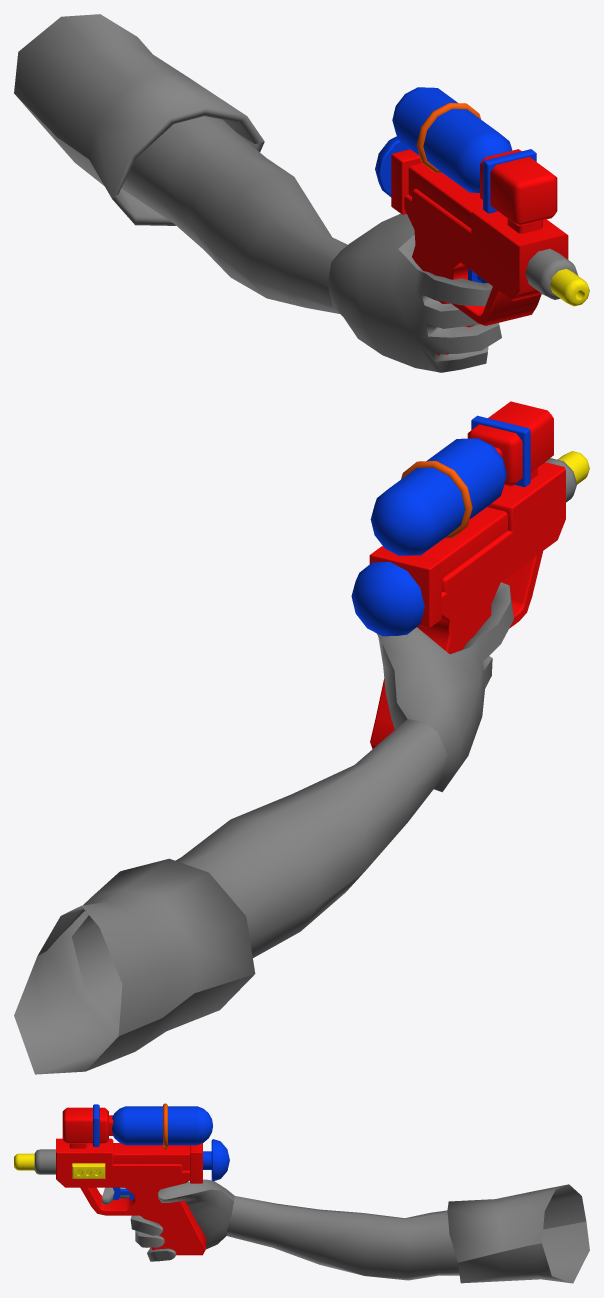
File: SM_WaterGunMonster.fbx
The picture shows the model from 3 angles, top to bottom: view 1: azimuth 30°, elevation 25°; view 2: azimuth 150°, elevation 25°; view 3: azimuth 270°, elevation 25°; orthographic projection. The views are drawn at different scales.
Visible parts, largest first — view 1: Plane001, Gun; view 2: Plane001, Gun; view 3: Plane001, Gun.
Boxes of the visible parts, x1,y1,x2,y2 form: Plane001: (14, 14, 501, 372); Gun: (375, 87, 589, 355); Plane001: (14, 582, 513, 1074); Gun: (351, 401, 589, 748); Plane001: (101, 1179, 589, 1283); Gun: (14, 1103, 229, 1255).
Bounding box in the file's own units: 15.92 × 88.78 × 30.57.
